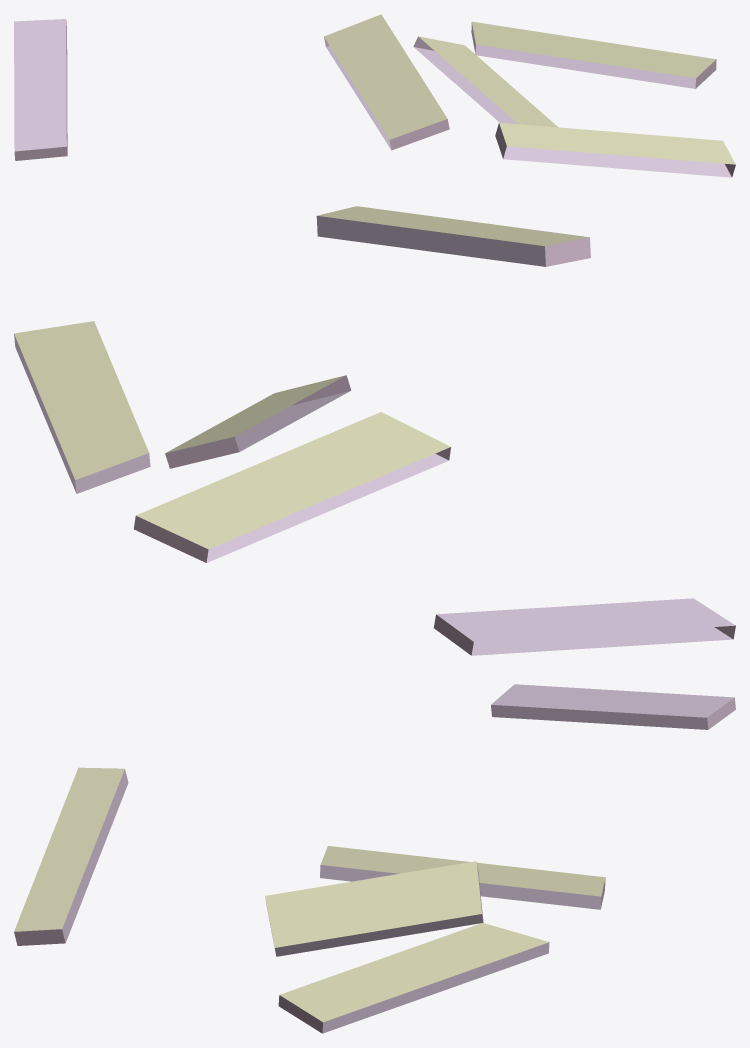
The model's file is ytlds_Object (18).fbx.
The picture shows the model from 3 angles, top to bottom: view 1: azimuth 30°, elevation 25°; view 2: azimuth 150°, elevation 25°; view 3: azimuth 270°, elevation 25°; orthographic projection. The views are drawn at different scales.
Visible parts, largest first — view 1: Object18; view 2: Object18; view 3: Object18.
Part boxes in pixels (<box>): Object18: <box>14,14,735,177</box>; Object18: <box>14,206,735,655</box>; Object18: <box>14,684,735,1033</box>.
Bounding box in the file's own units: 235 × 37.37 × 210.
